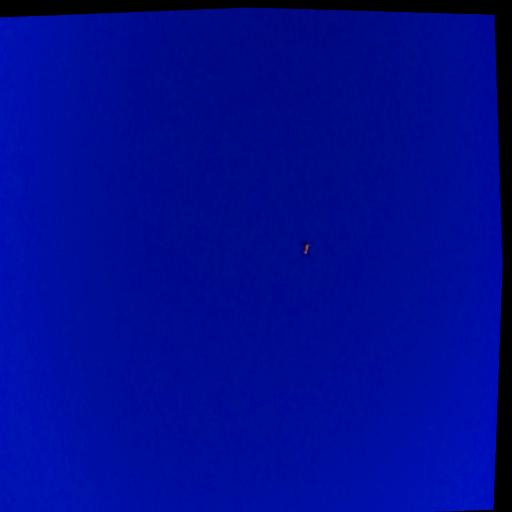drones: (297, 236, 315, 262)
